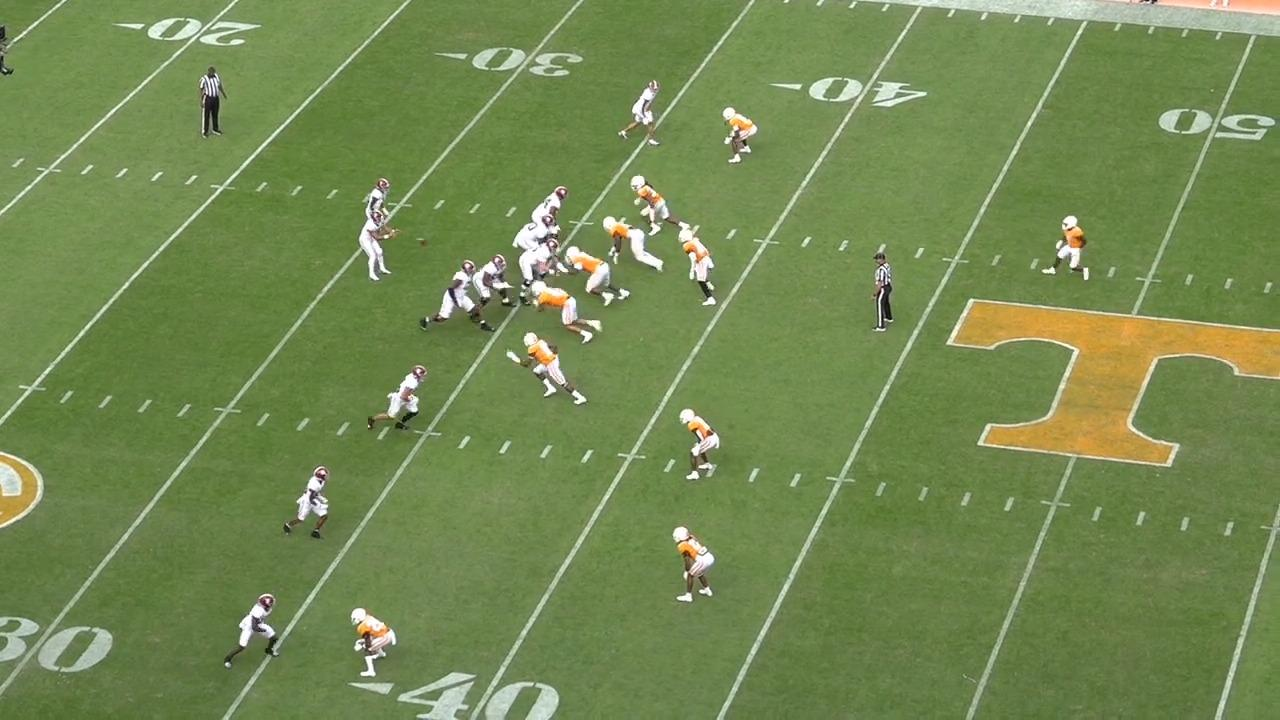defense: (511, 332, 587, 410), (531, 283, 607, 349), (561, 245, 628, 307), (347, 603, 399, 682), (625, 174, 688, 239), (672, 525, 718, 608), (606, 216, 670, 275), (683, 225, 723, 313), (1042, 214, 1091, 285), (679, 404, 722, 482), (723, 101, 763, 167)
oline: (423, 257, 499, 336), (473, 255, 515, 312), (522, 243, 568, 294), (533, 180, 574, 232), (511, 220, 559, 254)
qb: (355, 206, 396, 282)
ref: (871, 250, 900, 339), (198, 64, 229, 140)
skill: (219, 588, 283, 674), (362, 365, 428, 437), (283, 463, 335, 544), (613, 77, 663, 154), (367, 179, 394, 246)
